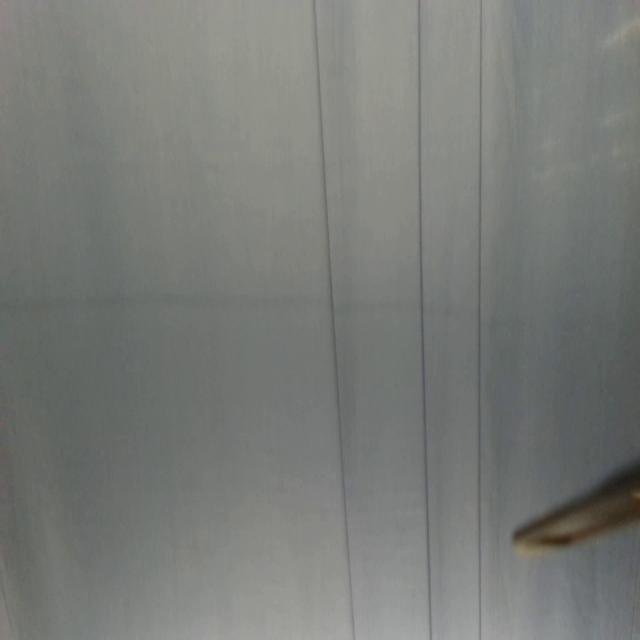color bleeding: (1, 286, 329, 318)
crease: (311, 1, 356, 640), (416, 0, 433, 640), (476, 0, 484, 640)
